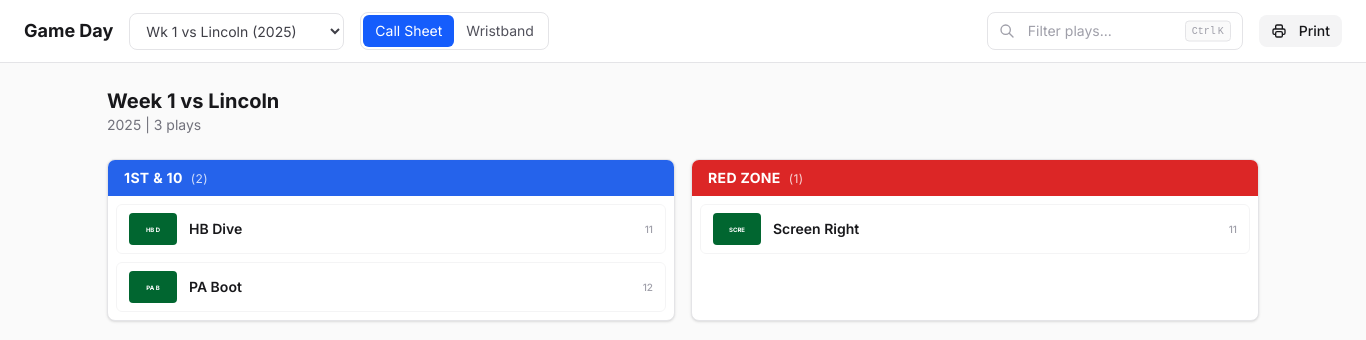
Test: GameDayPage › changes game plan when selector changes
The width and height of the screenshot is (1366, 340).
Expected: the heading with test id "plan-header" reads "Week 1 vs Lincoln", [107,89,279,113]
Select "Wk 2 vs Jefferson (2025)" in the dropdown with test id "gameplan-selector": {"x": 237, "y": 31} [129,12,344,50]
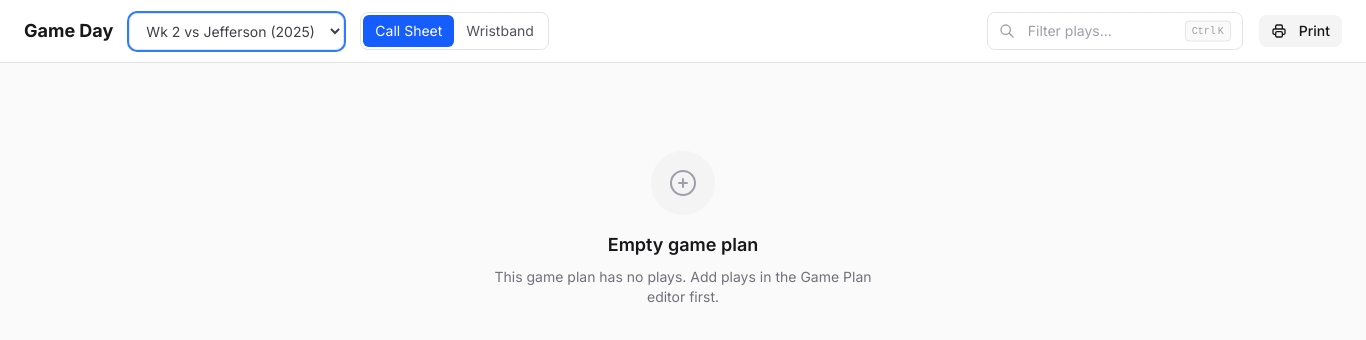
Result: the heading "Empty game plan" is shown at [608,231,758,259]
